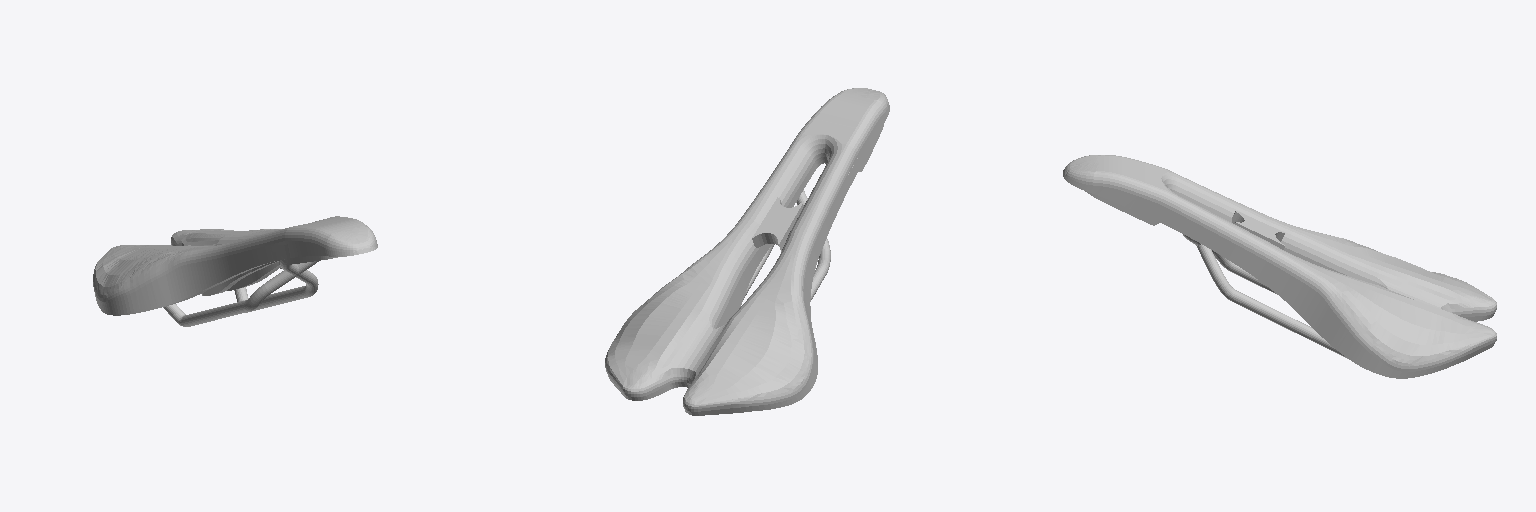
Rendered from RaceSeat 1.obj.
3 views of the same model, side by side, from view 1: azimuth 30°, elevation 25°; view 2: azimuth 150°, elevation 25°; view 3: azimuth 270°, elevation 25° (orthographic).
Visible parts, largest first — view 1: Race; view 2: Race; view 3: Race.
Boxes of the visible parts, x1,y1,x2,y2 form: Race: [93, 216, 377, 326]; Race: [605, 88, 889, 415]; Race: [1063, 155, 1496, 378].
Size of the model in its own units: 0.1301 by 0.1226 by 0.26.